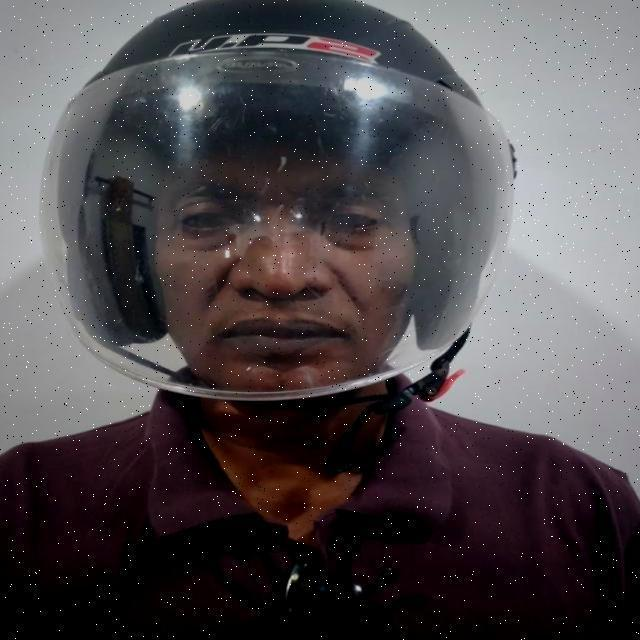helmet: (40, 0, 514, 485)
